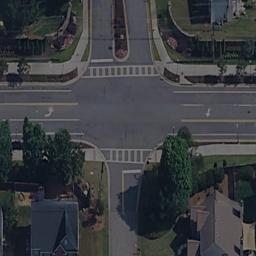Crosswalk: (78, 61, 162, 79), (96, 146, 157, 165)
Double Solid Yellow Line: (1, 99, 81, 107), (178, 117, 256, 123), (119, 171, 125, 218)
Left Turn Arrow: (41, 108, 56, 119)
Right Turn Arrow: (203, 108, 213, 116)
Solid White Line: (165, 131, 256, 138), (1, 131, 87, 138), (1, 116, 82, 123), (1, 88, 74, 93), (170, 89, 256, 93), (177, 103, 256, 107)
Stop Line: (88, 57, 114, 64), (122, 167, 143, 174)
